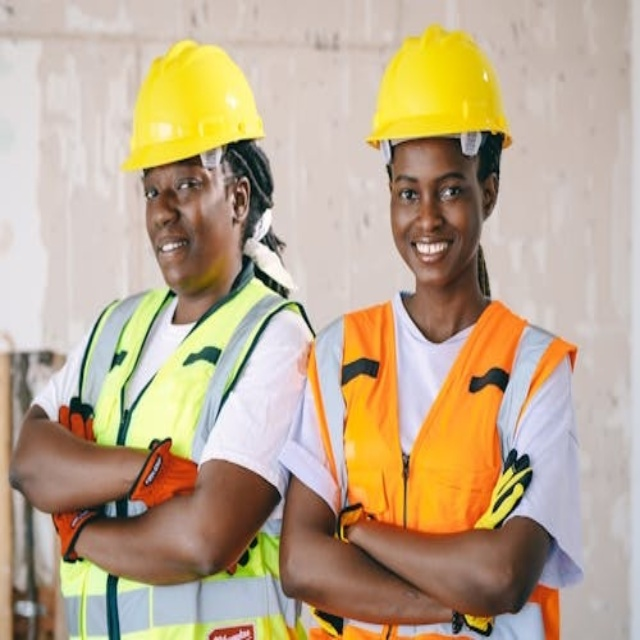Guantes: (454, 439, 536, 529), (122, 430, 206, 510), (52, 391, 104, 452)
Sin_gafas: (392, 167, 474, 207), (140, 171, 207, 198)
Sin_mascara: (399, 230, 461, 266), (154, 234, 195, 268)
